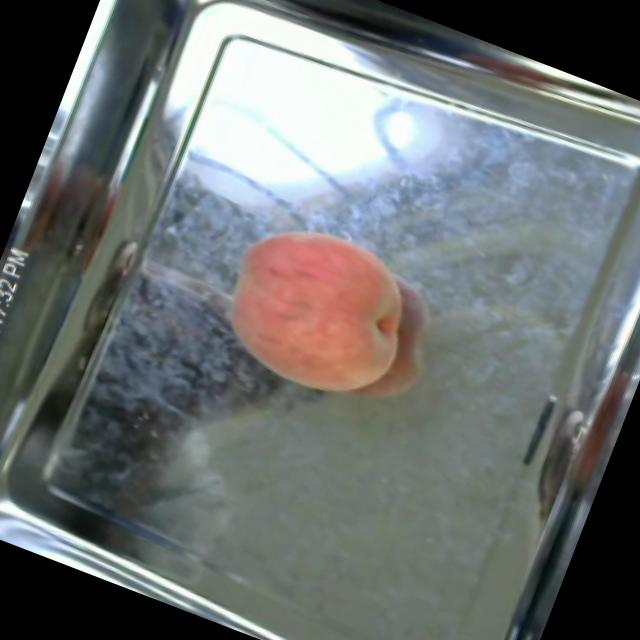Fruit: (194, 193, 438, 423)
